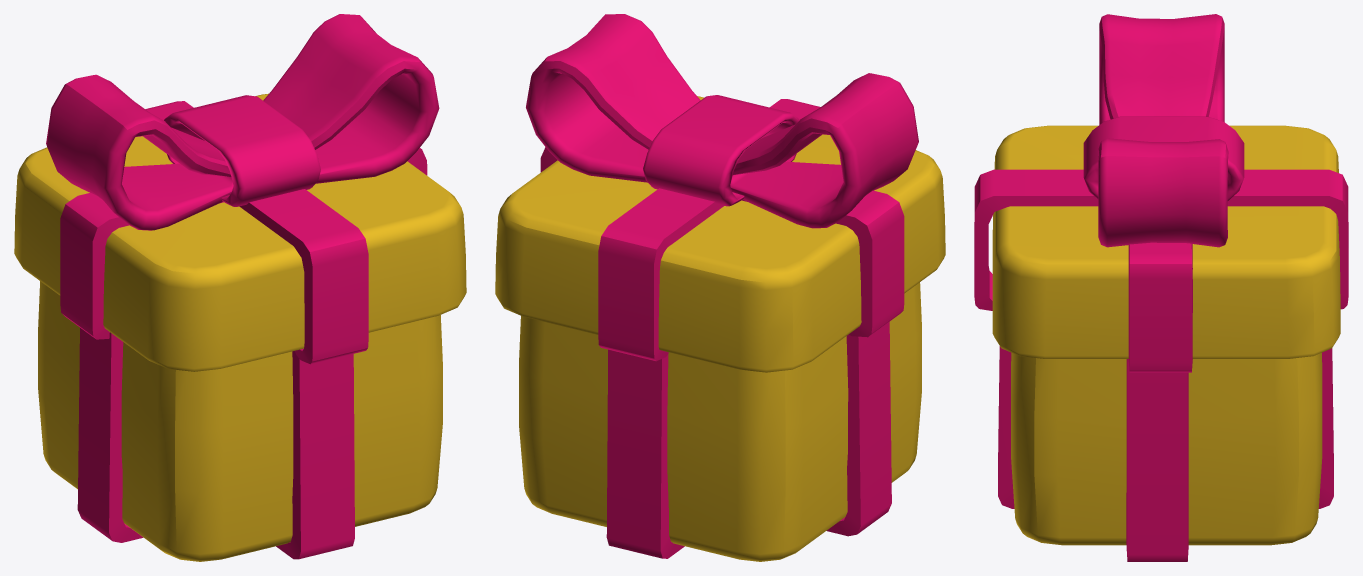
File: Gift.fbx
The picture shows the model from 3 angles, left to right: view 1: azimuth 30°, elevation 25°; view 2: azimuth 150°, elevation 25°; view 3: azimuth 270°, elevation 25°; orthographic projection. The views are drawn at different scales.
Visible parts, largest first — view 1: gift_top, gift_bottom; view 2: gift_top, gift_bottom; view 3: gift_top, gift_bottom.
Boxes of the visible parts, box(x1,y1,x2,y2) form: gift_top: box(14, 14, 466, 371); gift_bottom: box(38, 281, 442, 561); gift_top: box(495, 14, 945, 372); gift_bottom: box(519, 282, 921, 561); gift_top: box(974, 14, 1348, 372); gift_bottom: box(998, 346, 1333, 561).
Size of the model in its own units: 3.68 by 4.52 by 3.68.
